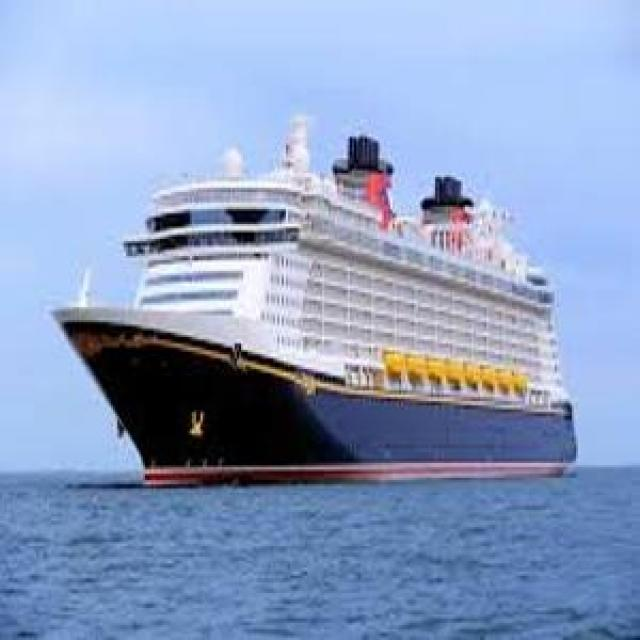passenger ship: (53, 112, 582, 480)
